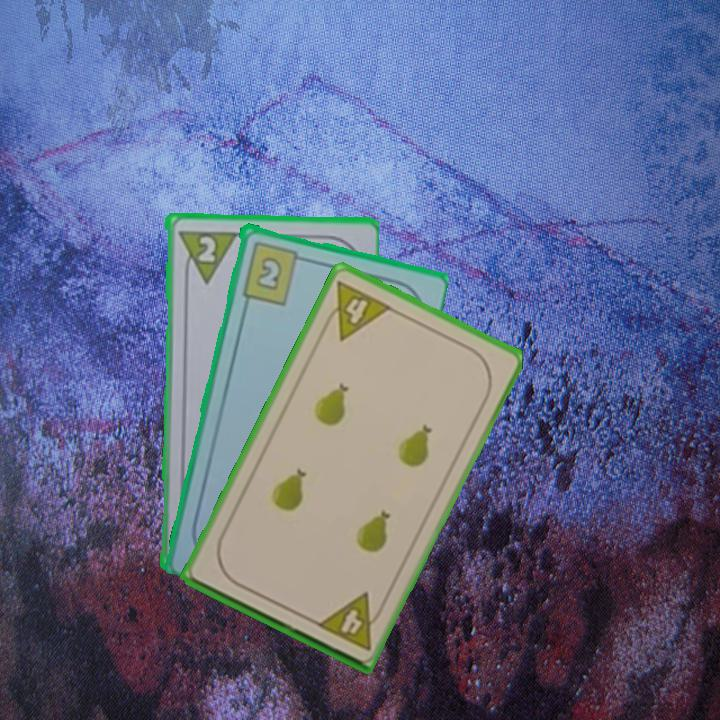2b: (238, 237, 309, 307)
2p: (174, 226, 238, 286)
4p: (317, 277, 395, 344), (312, 589, 388, 653)
